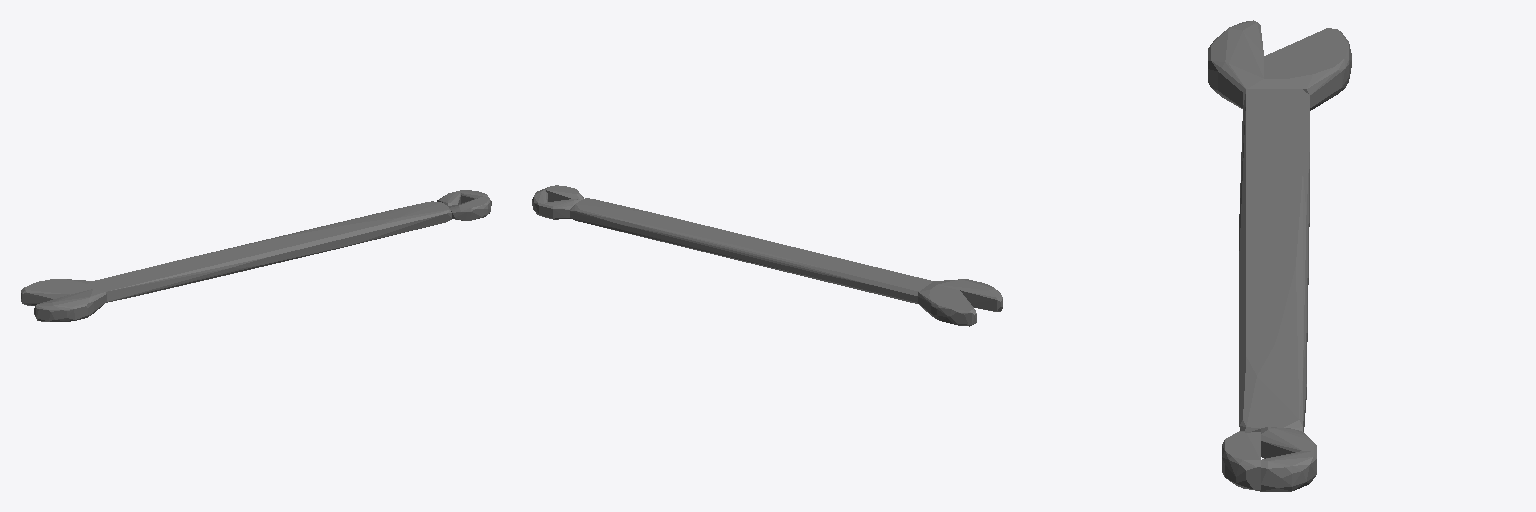
URDF robot description (wrench_023):
<?xml version="1.0" ?>
<robot name="wrench_023">
  <material name="color">
    <color rgba=".5 .5 .5 1"/>
  </material>

  <link name="base_link">
    <contact>
      <lateral_friction value="1.0"/>
      <rolling_friction value="0.001"/>
      <spinning_friction value="0.001"/>
      <inertia_scaling value="1.0"/>
    </contact>
    <inertial>
      <origin rpy="0 0 0" xyz="-0.00465603 -0.000917889 -0.000278001"/>
       <mass value="0.1"/>
       <inertia ixx="1" ixy="0" ixz="0" iyy="1" iyz="0" izz="1"/>
    </inertial>

    <visual>
      <origin rpy="0 0 0" xyz="0 0 0"/>
      <geometry>
        <mesh filename="wrench_023_vhacd_0_of_6.obj" scale="1 1 1"/>
      </geometry>
      <material name="color"/>
    </visual>
    <visual>
      <origin rpy="0 0 0" xyz="0 0 0"/>
      <geometry>
        <mesh filename="wrench_023_vhacd_1_of_6.obj" scale="1 1 1"/>
      </geometry>
      <material name="color"/>
    </visual>
    <visual>
      <origin rpy="0 0 0" xyz="0 0 0"/>
      <geometry>
        <mesh filename="wrench_023_vhacd_2_of_6.obj" scale="1 1 1"/>
      </geometry>
      <material name="color"/>
    </visual>
    <visual>
      <origin rpy="0 0 0" xyz="0 0 0"/>
      <geometry>
        <mesh filename="wrench_023_vhacd_3_of_6.obj" scale="1 1 1"/>
      </geometry>
      <material name="color"/>
    </visual>
    <visual>
      <origin rpy="0 0 0" xyz="0 0 0"/>
      <geometry>
        <mesh filename="wrench_023_vhacd_4_of_6.obj" scale="1 1 1"/>
      </geometry>
      <material name="color"/>
    </visual>
    <visual>
      <origin rpy="0 0 0" xyz="0 0 0"/>
      <geometry>
        <mesh filename="wrench_023_vhacd_5_of_6.obj" scale="1 1 1"/>
      </geometry>
      <material name="color"/>
    </visual>

    <collision>
      <origin rpy="0 0 0" xyz="0 0 0"/>
      <geometry>
        <mesh filename="wrench_023_vhacd_0_of_6.obj" scale="1 1 1"/>
      </geometry>
    </collision>
    <collision>
      <origin rpy="0 0 0" xyz="0 0 0"/>
      <geometry>
        <mesh filename="wrench_023_vhacd_1_of_6.obj" scale="1 1 1"/>
      </geometry>
    </collision>
    <collision>
      <origin rpy="0 0 0" xyz="0 0 0"/>
      <geometry>
        <mesh filename="wrench_023_vhacd_2_of_6.obj" scale="1 1 1"/>
      </geometry>
    </collision>
    <collision>
      <origin rpy="0 0 0" xyz="0 0 0"/>
      <geometry>
        <mesh filename="wrench_023_vhacd_3_of_6.obj" scale="1 1 1"/>
      </geometry>
    </collision>
    <collision>
      <origin rpy="0 0 0" xyz="0 0 0"/>
      <geometry>
        <mesh filename="wrench_023_vhacd_4_of_6.obj" scale="1 1 1"/>
      </geometry>
    </collision>
    <collision>
      <origin rpy="0 0 0" xyz="0 0 0"/>
      <geometry>
        <mesh filename="wrench_023_vhacd_5_of_6.obj" scale="1 1 1"/>
      </geometry>
    </collision>

  </link>
</robot>

--- What the picture shows (computed from the rendered views, not written in the file) ---
3 views of the same robot in one strip: view 1: azimuth 30°, elevation 25°; view 2: azimuth 150°, elevation 25°; view 3: azimuth 270°, elevation 25° (orthographic).
Robot: wrench_023 — 1 links, 0 joints (none); root link base_link; default pose: every joint at zero.
Links seen in each view (by area): view 1: base_link; view 2: base_link; view 3: base_link.
Link boxes in pixels (<box>): base_link: <box>21,190,491,321</box>; base_link: <box>532,185,1002,326</box>; base_link: <box>1208,20,1351,491</box>.
Size in the robot's own frame: 0.2008 by 0.0277 by 0.0074 metres.
Meshes: 6 distinct files referenced, 6 mesh visuals loaded (6 OBJ).